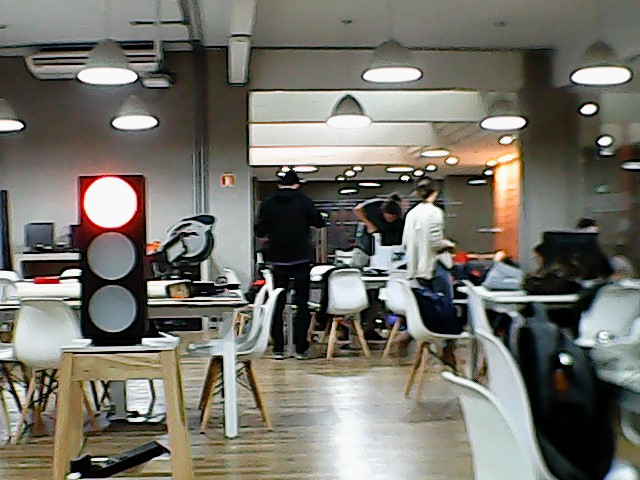vermelho: (74, 172, 152, 348)
